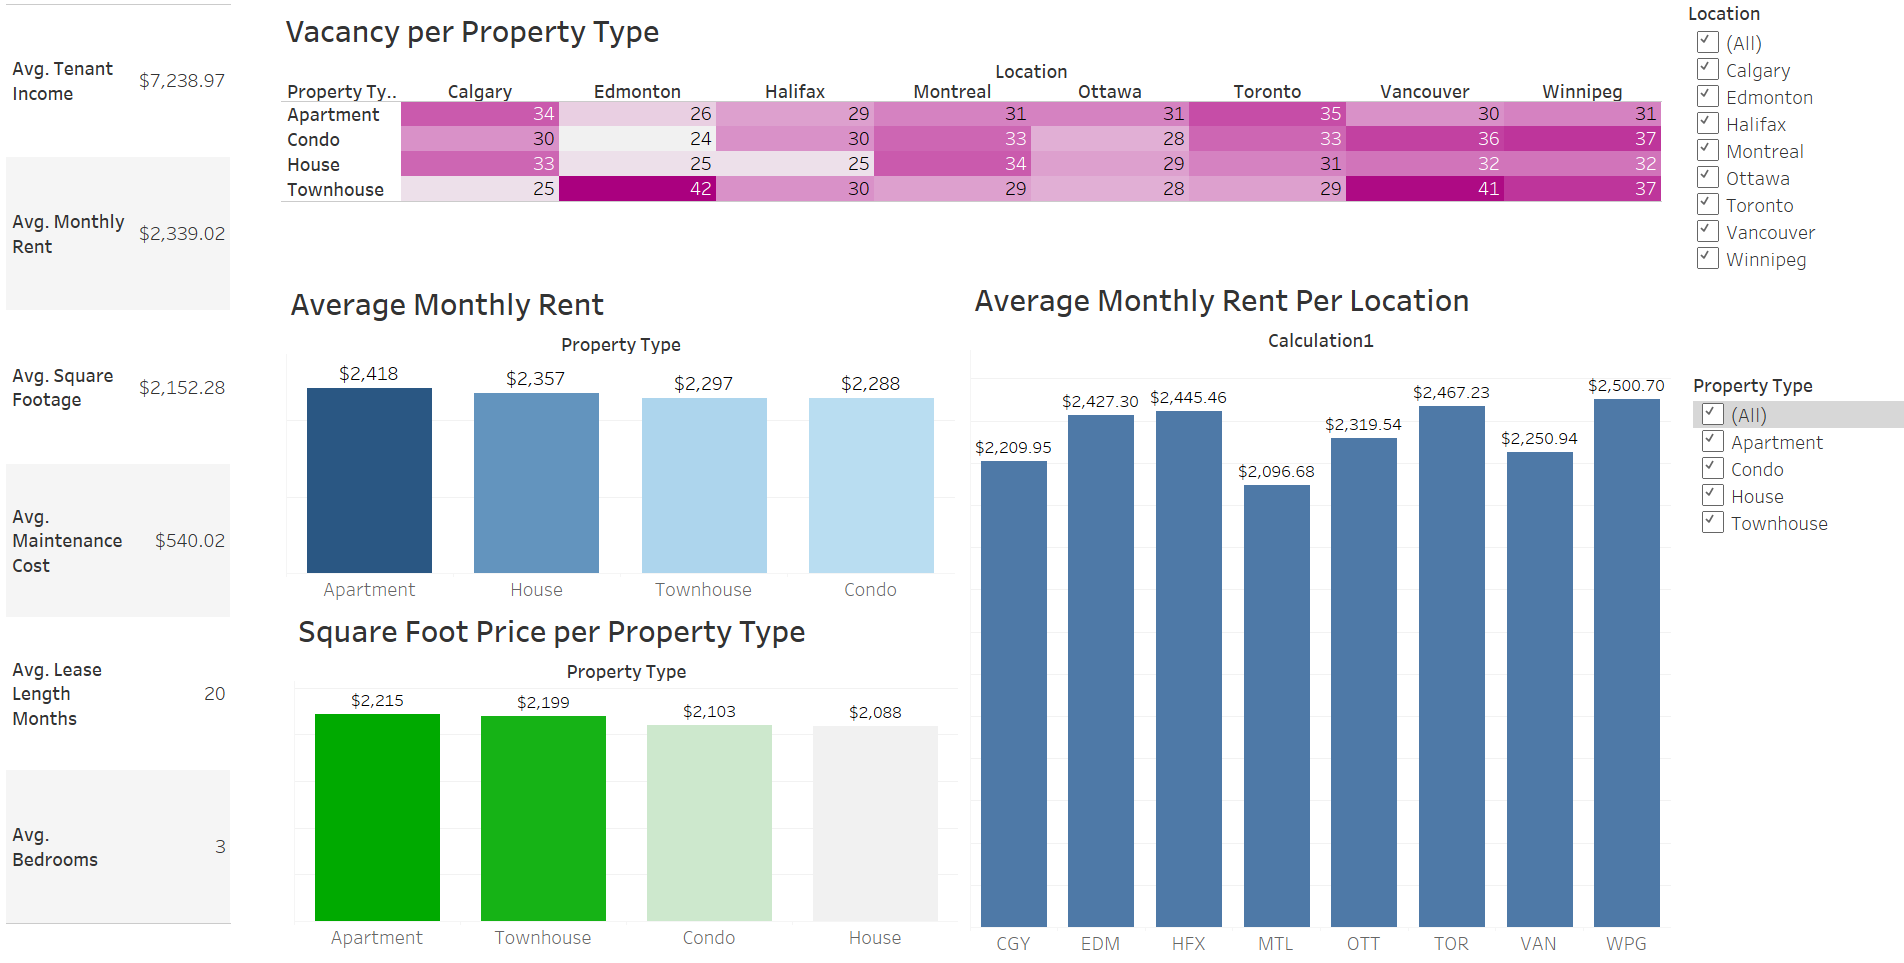

This screenshot's page, from the dashboard's own definition file:
{"tool":"tableau","page":{"name":"Dashboard 1","canvas":[1000,1000],"units":"permille","ordinal":0},"visuals":[{"type":"filter","title":"Sheet 3","param":"[federated.0z4g8od0j2b0xg1d5ojn81mmw4ik].[none:Location:nk]","box":[882.2,8,114.7,368.6]},{"type":"worksheet","title":"Sheet 4","mark":"Automatic","box":[5,10.7,990,978.6]},{"type":"worksheet","title":"Sheet 3","mark":"Square","rows":["Property_Type"],"cols":["Location"],"box":[149.6,13.4,719.5,332.4]},{"type":"worksheet","title":"Per location","mark":"Automatic","rows":["Monthly_Rent"],"cols":["Calculation_885801805879799809"],"box":[508.1,289.5,365.3,699.7]},{"type":"worksheet","title":"Average Montly Rent","mark":"Automatic","rows":["Monthly_Rent"],"cols":["Property_Type"],"box":[152.1,293.6,348.5,332.4]},{"type":"filter","title":"Sheet 3","param":"[federated.0z4g8od0j2b0xg1d5ojn81mmw4ik].[none:Property_Type:nk]","box":[884.7,390.1,110.4,223.9]},{"type":"worksheet","title":"Sheet 5","mark":"Automatic","rows":["Square_Footage"],"cols":["Property_Type"],"box":[156.5,628.7,346,353.9]}]}

Visuals, with their boxes on the dashboard's canvas, which has no fixed pixel size, in thousandths of its width and height (x1, y1, x2, y2). These are canvas units, not pixel positions in the 1904x963 screenshot, which may show the page scaled, cropped or inside an application window:
"Sheet 3" filter: rect(882, 8, 997, 377)
"Sheet 4" worksheet: rect(5, 11, 995, 989)
"Sheet 3" worksheet (Square marks): rect(150, 13, 869, 346)
"Per location" worksheet: rect(508, 290, 873, 989)
"Average Montly Rent" worksheet: rect(152, 294, 501, 626)
"Sheet 3" filter: rect(885, 390, 995, 614)
"Sheet 5" worksheet: rect(156, 629, 502, 983)
